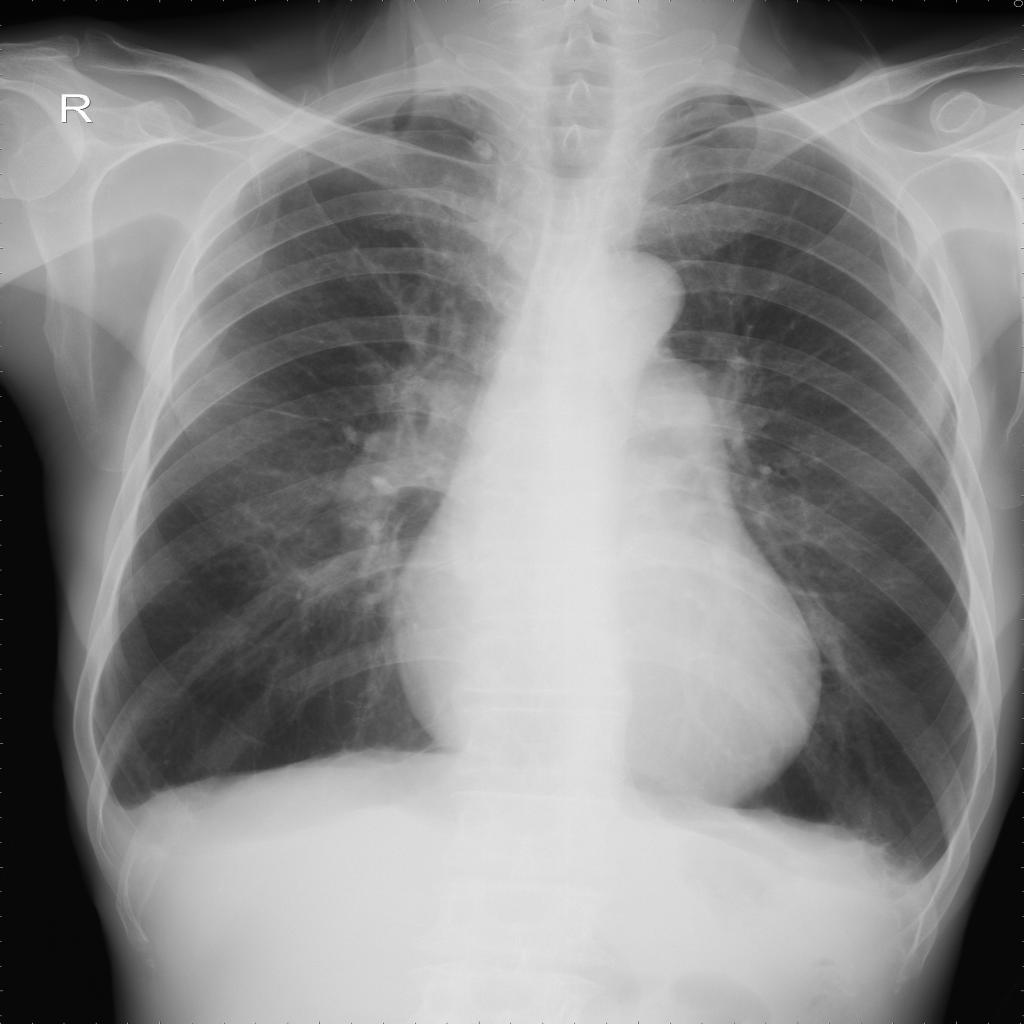Nodule: (475, 140, 494, 161)
